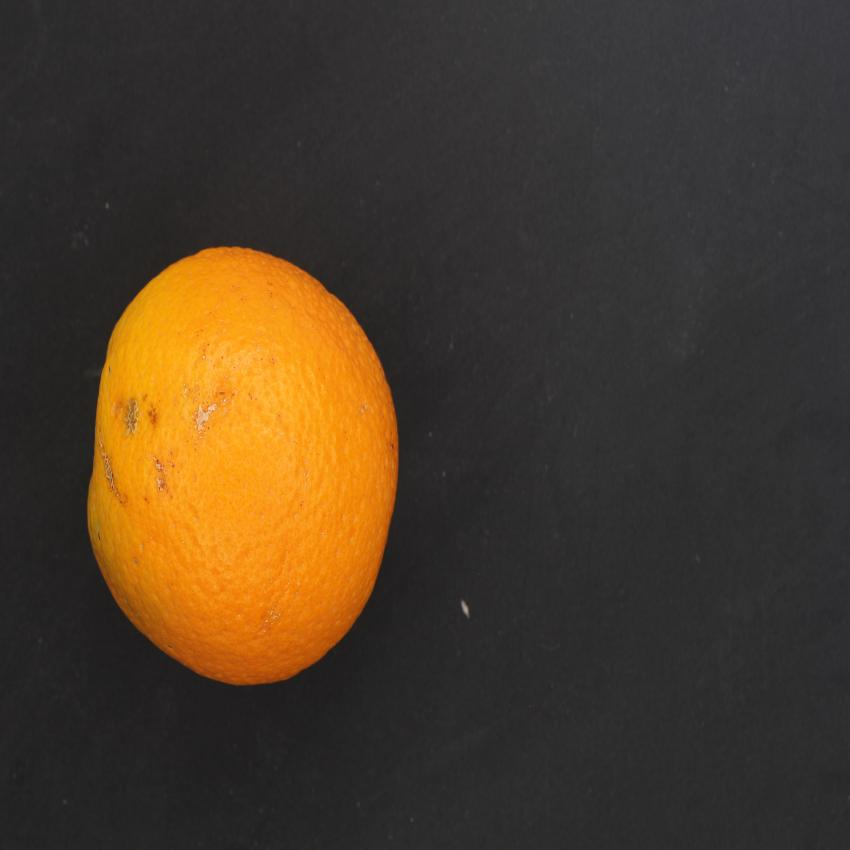Mal estado: (77, 205, 410, 708)
